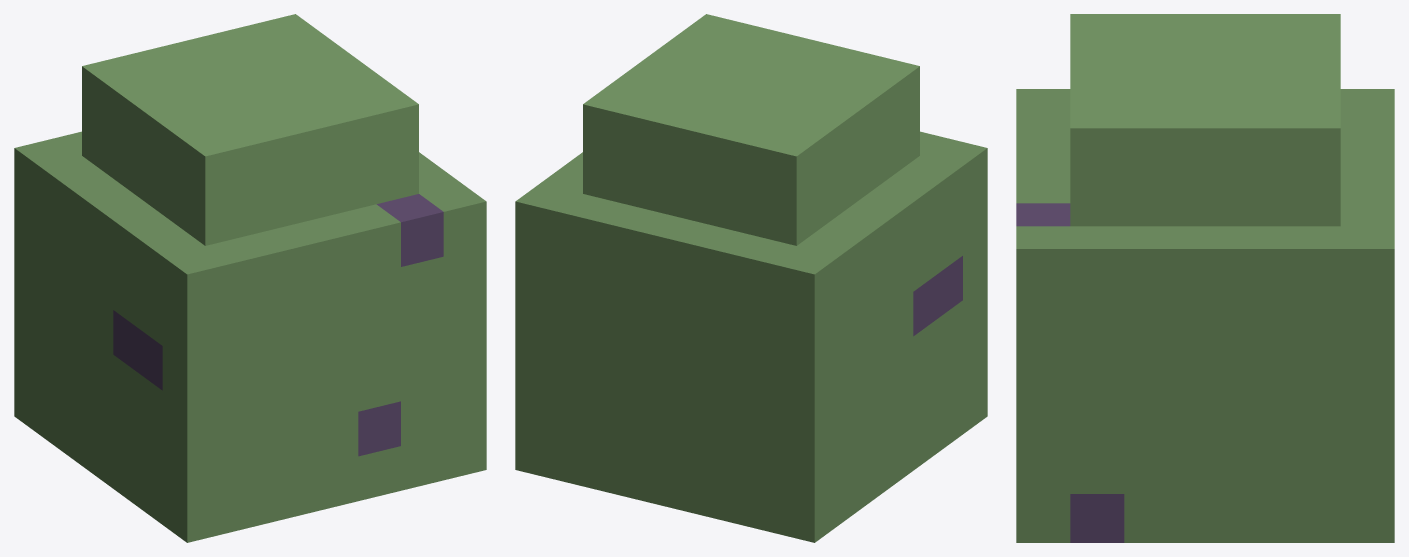
File: sauco_01.glb
The picture shows the model from 3 angles, left to right: view 1: azimuth 30°, elevation 25°; view 2: azimuth 150°, elevation 25°; view 3: azimuth 270°, elevation 25°; orthographic projection. The views are drawn at different scales.
Visible parts, largest first — view 1: sauco_01; view 2: sauco_01; view 3: sauco_01.
Boxes of the visible parts, x1,y1,x2,y2 form: sauco_01: (14,14,486,542); sauco_01: (515,14,987,542); sauco_01: (1016,14,1394,542).
Bounding box in the file's own units: 0.7 × 0.8 × 0.7.
